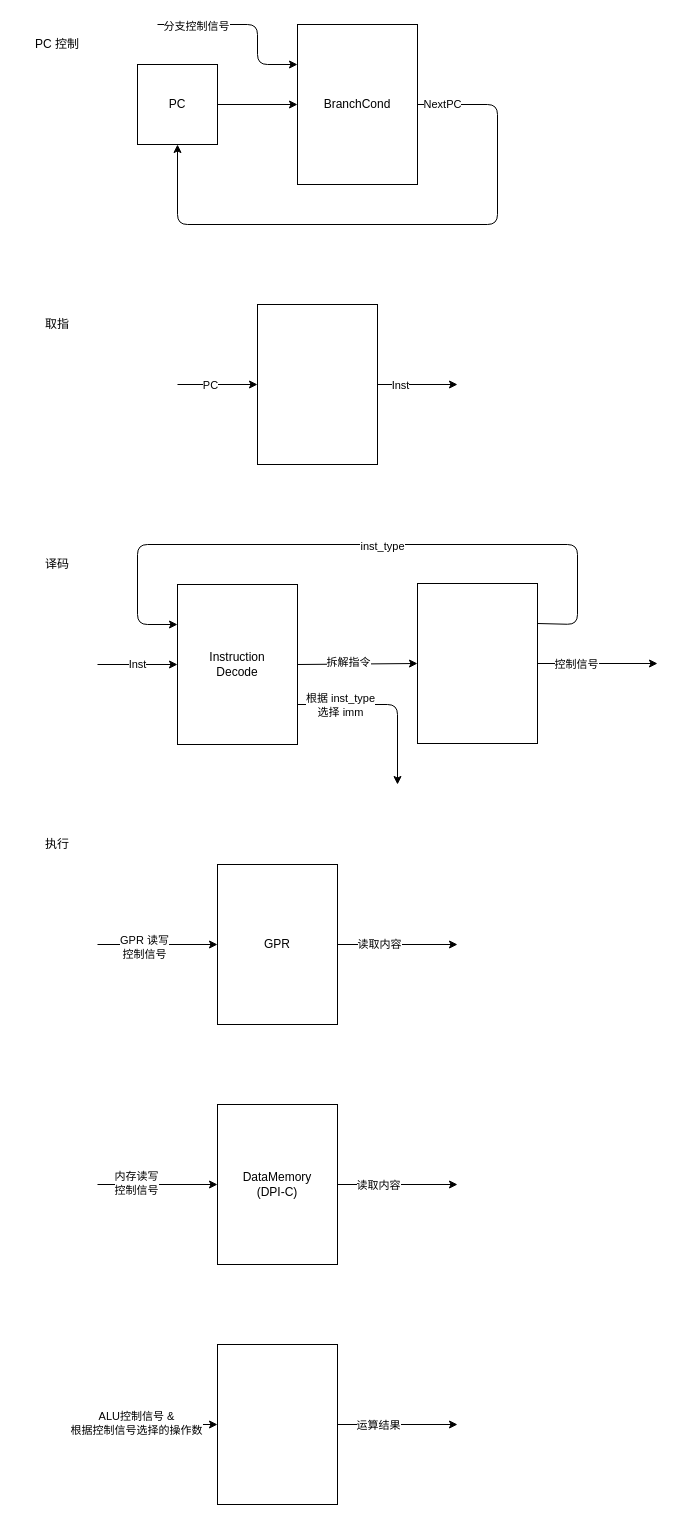
Image size: 683x1522. Some labels were removed from this diagram. The box of each missing label's shape, as (x1, y1, x2, y2) in pixels:
ALU: (216, 1344, 338, 1504)
Constrol Signal Genarate: (416, 582, 538, 744)
Instruction Memory (DPI-C): (256, 304, 378, 464)
